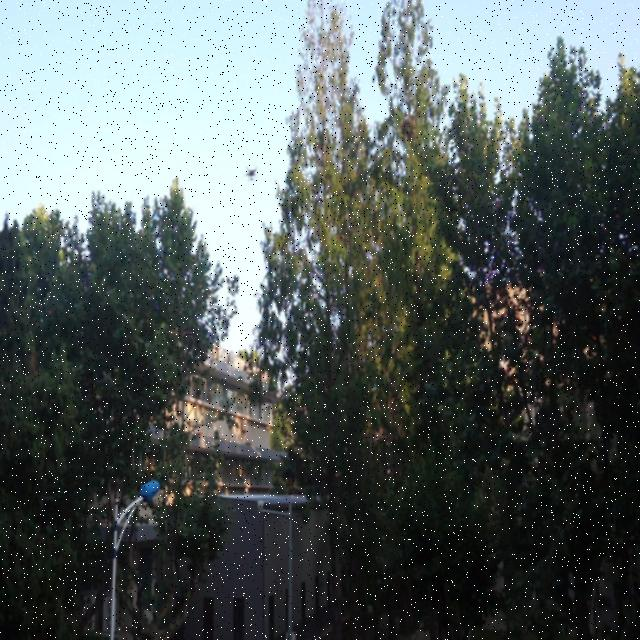UAV: (243, 166, 260, 182)
